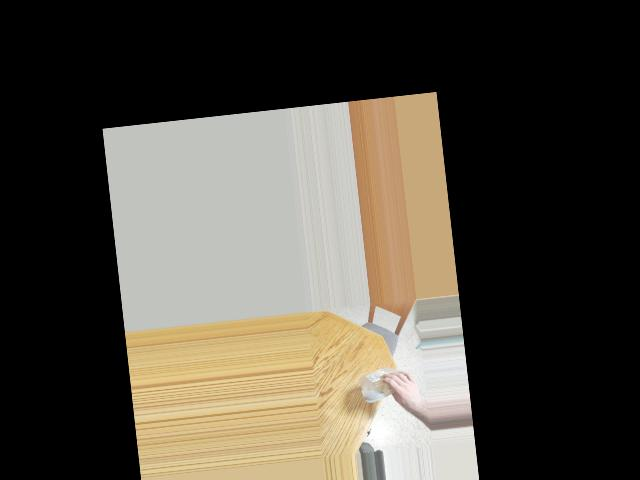cheese: (371, 366, 412, 403)
